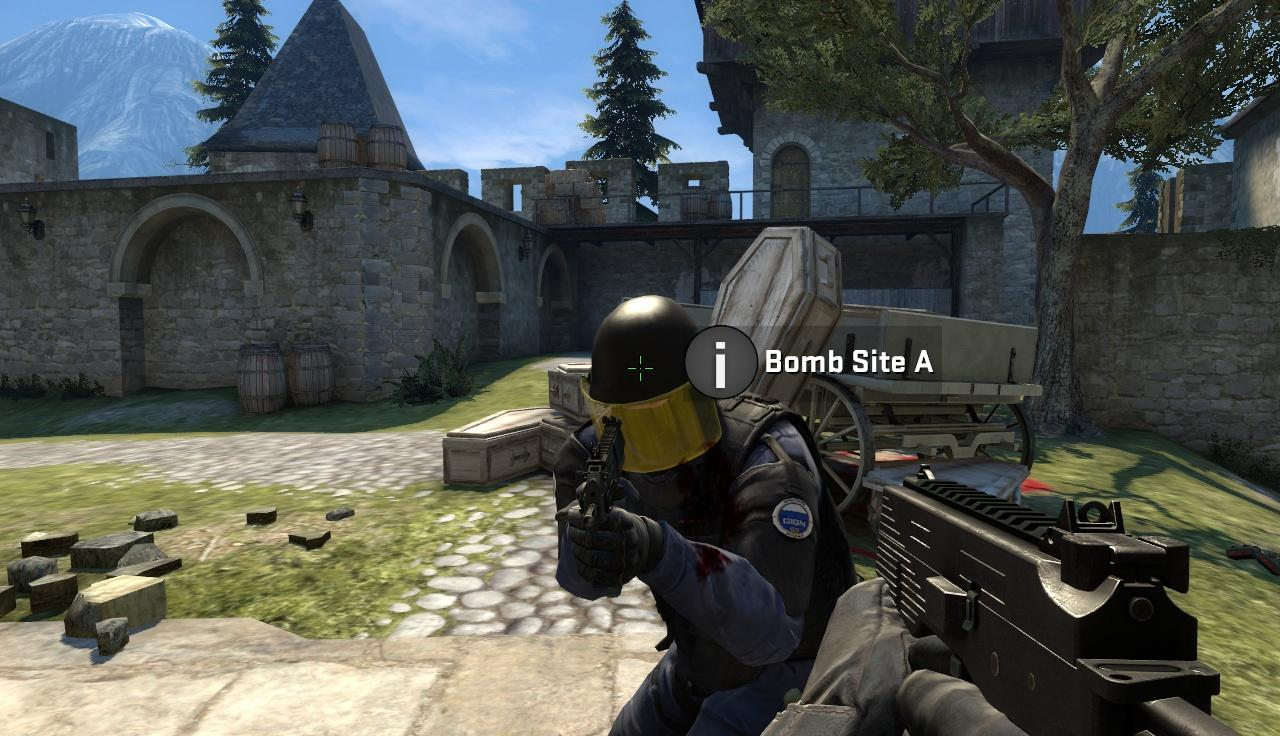ct: (549, 290, 833, 734)
cthead: (593, 295, 700, 438)
rifle: (856, 465, 1280, 736)
